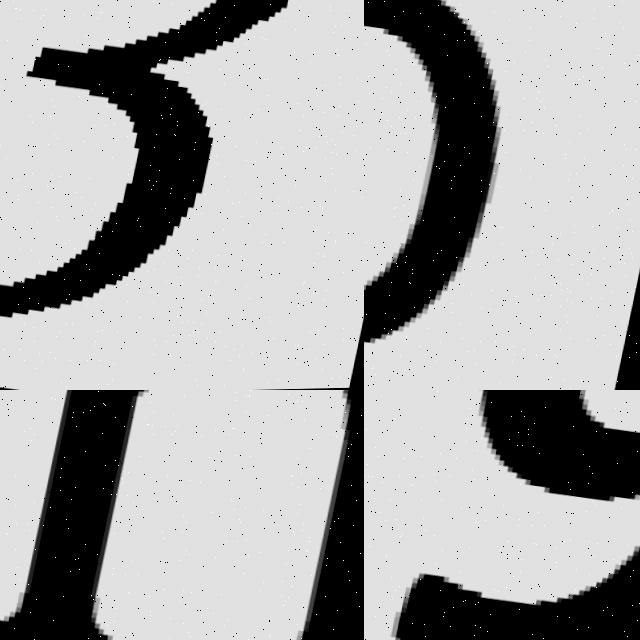3: (0, 0, 352, 362)
9: (383, 390, 640, 640)
N: (0, 390, 364, 640)
P: (364, 0, 501, 345)
